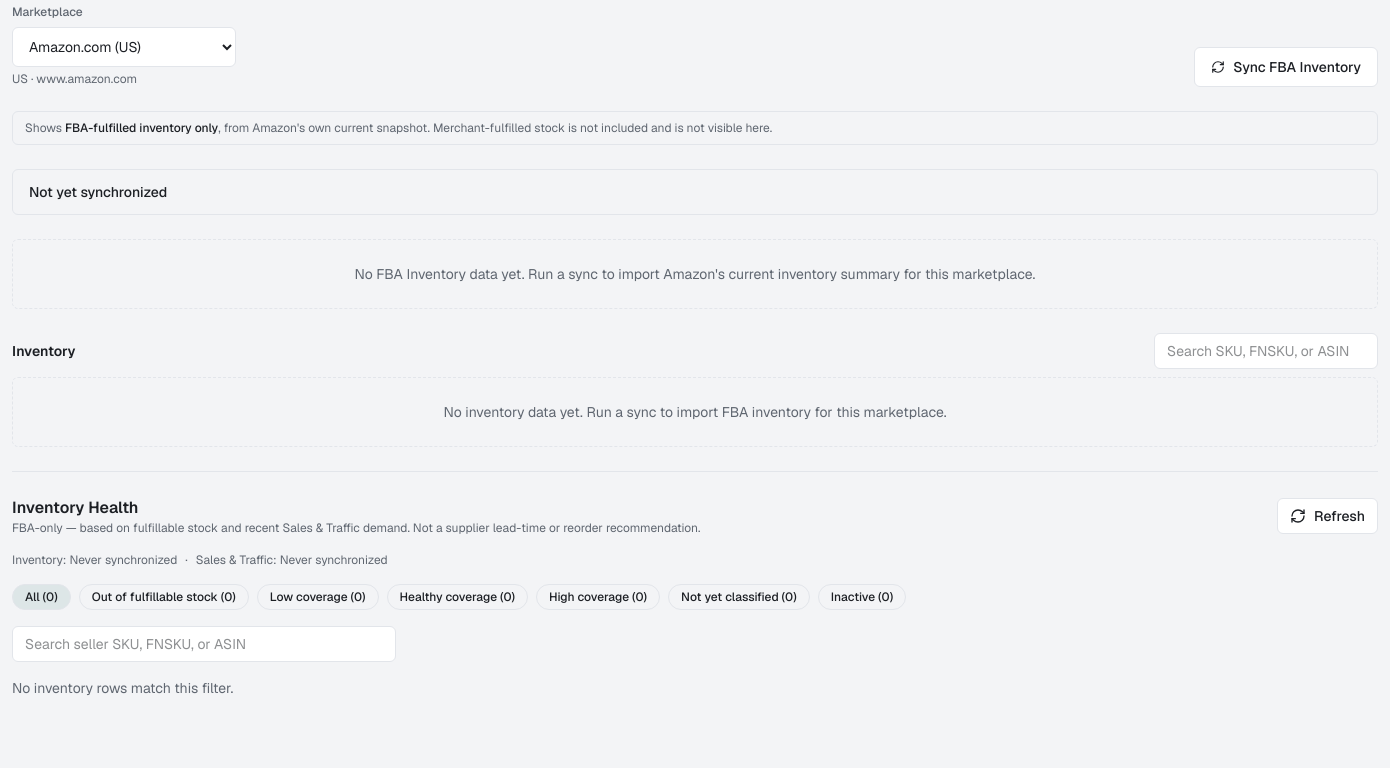
Test: SellerInventory — worker readiness (fix/inventory-empty-response-and-failure-classification) › clears a stale worker_unavailable banner automatically once the worker recovers, without a manual refresh
Click the button "Sync FBA Inventory": [1286, 66] box [1194,46,1378,86]
Wait 3000 ms
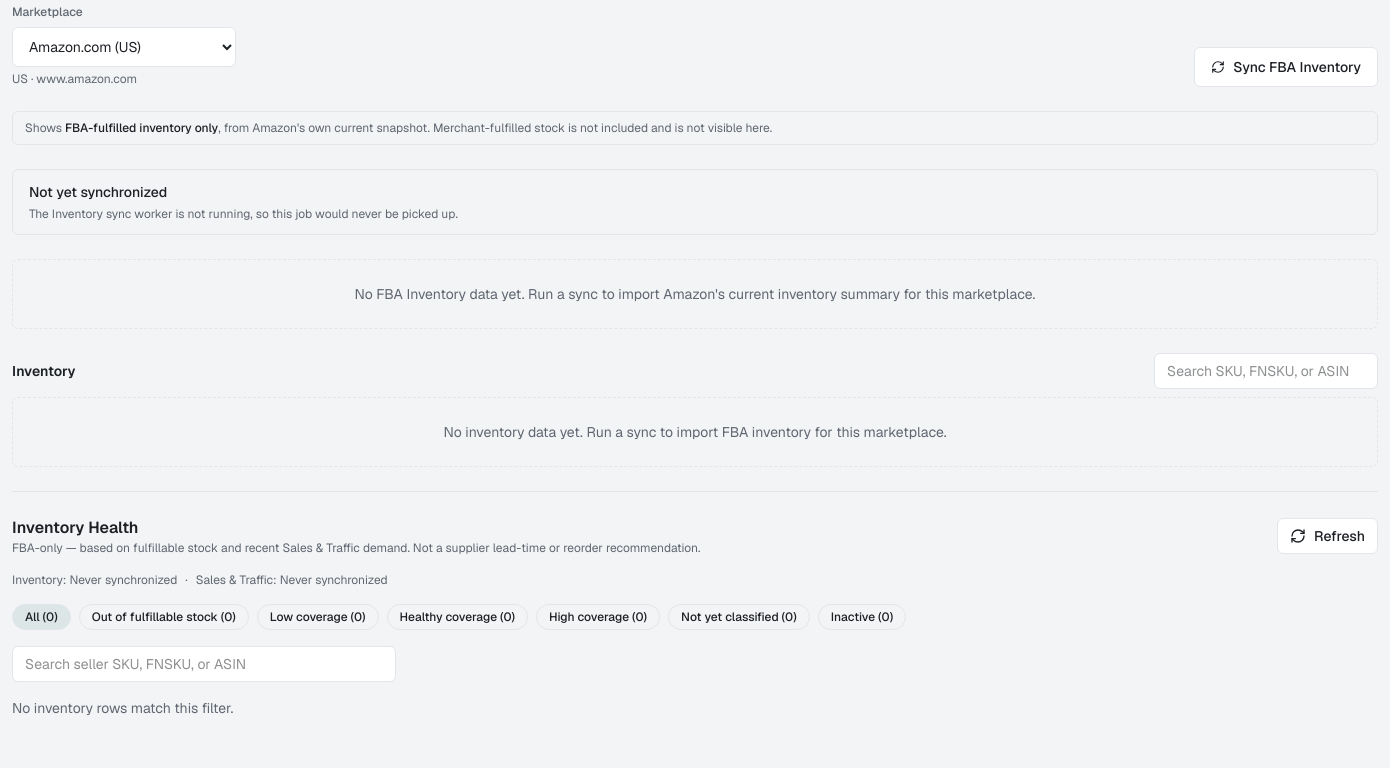
Result: the text "worker is not running" is shown at [29,206,458,222]
